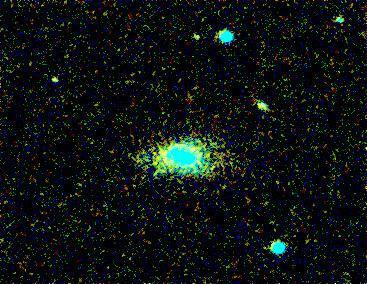star: (39, 65, 69, 95)
